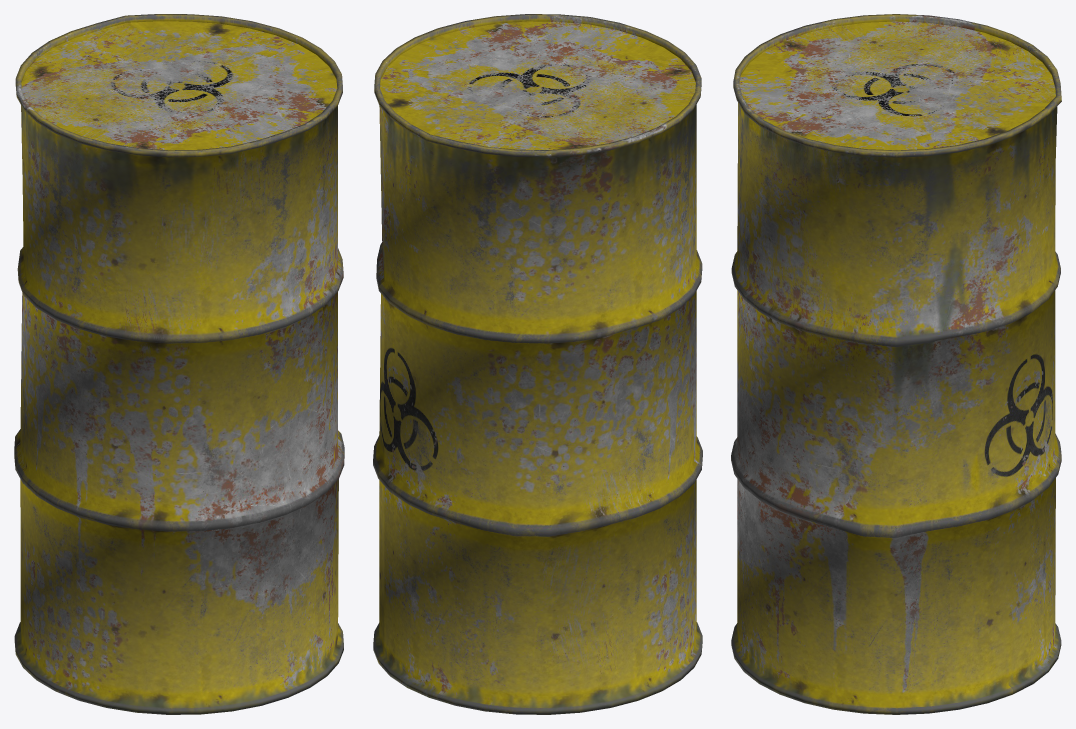
File: toxiccan.glb
The picture shows the model from 3 angles, left to right: view 1: azimuth 30°, elevation 25°; view 2: azimuth 150°, elevation 25°; view 3: azimuth 270°, elevation 25°; orthographic projection.
Parts seen in each view (by area): view 1: barrel2_lo; view 2: barrel2_lo; view 3: barrel2_lo.
Part boxes in pixels (<box>): barrel2_lo: <box>14,14,344,714</box>; barrel2_lo: <box>373,14,702,714</box>; barrel2_lo: <box>731,14,1061,714</box>.
Bounding box in the file's own units: 1.12 × 2.04 × 1.09.
1 material, 1 textured.
